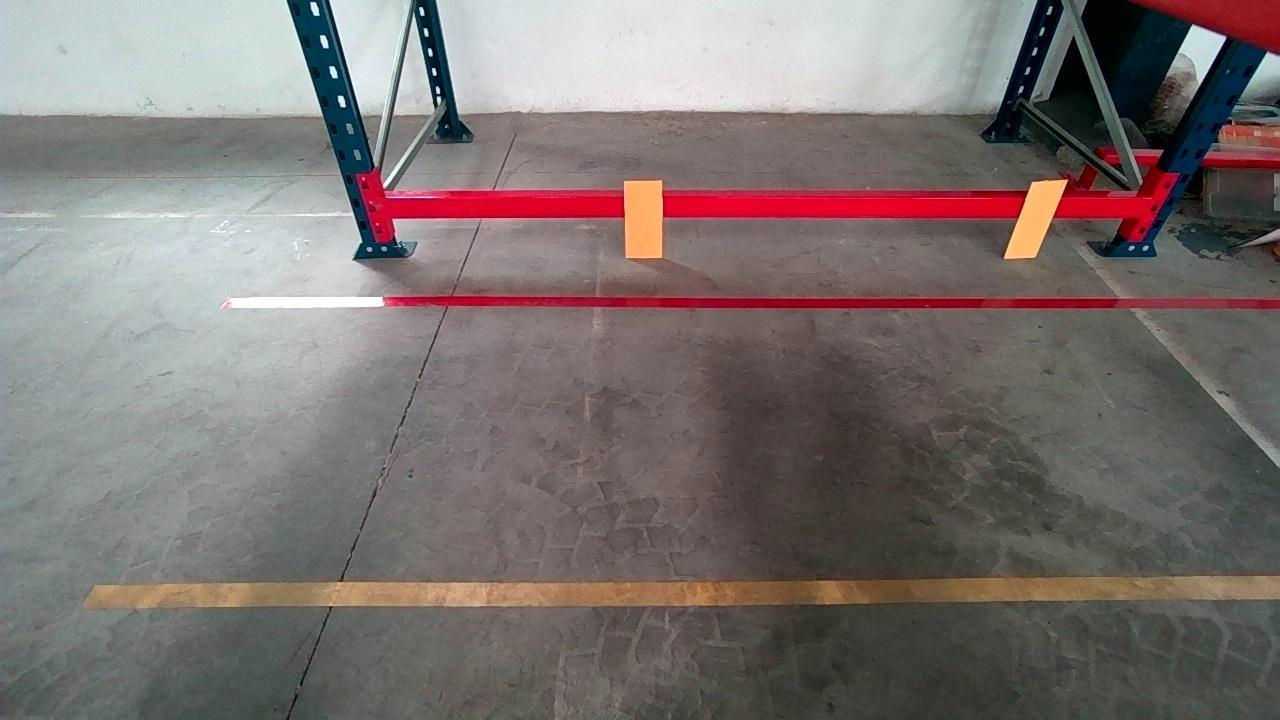h_rack: (384, 194, 1141, 220)
orange_strip: (1004, 179, 1069, 256), (625, 179, 663, 256)
red_line: (219, 294, 1278, 308)
yellow_line: (82, 575, 1280, 604)
